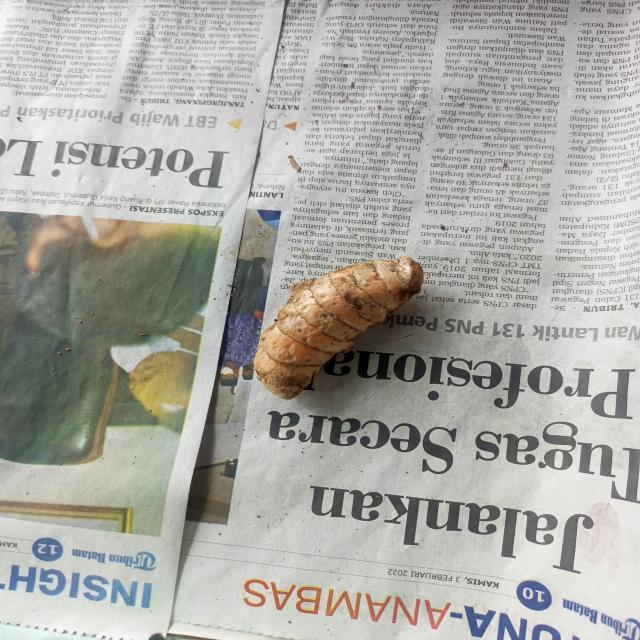ginger: (247, 247, 443, 383)
